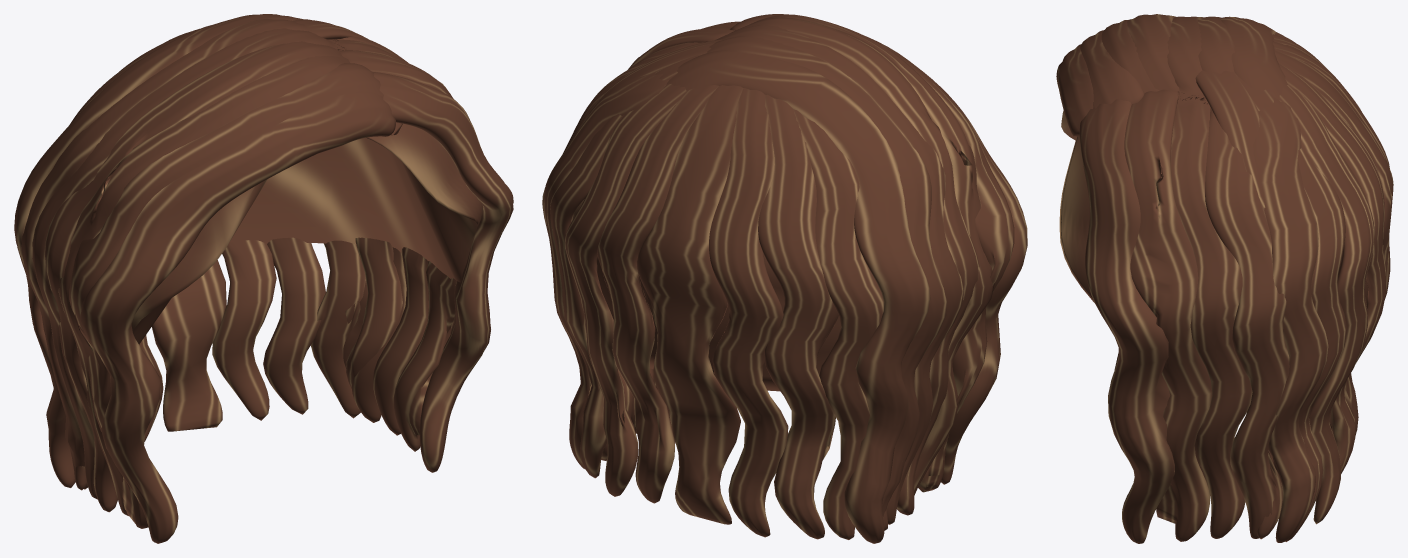
Rendered from Highlights-6e13555985ca252-hair.glb.
The picture shows the model from 3 angles, left to right: view 1: azimuth 30°, elevation 25°; view 2: azimuth 150°, elevation 25°; view 3: azimuth 270°, elevation 25°; orthographic projection. The views are drawn at different scales.
Parts seen in each view (by area): view 1: 226 hair / Hair / sculpted 0.002, 226 hair / Hair / sculpted 1.004, 226 hair / Hair / sculpted 2.002, 226 hair / Hair / sculpted 1.003; view 2: 226 hair / Hair / sculpted 0.002, 226 hair / Hair / sculpted 2.002, 226 hair / Hair / sculpted 1.004, 226 hair / Hair / sculpted 1.003; view 3: 226 hair / Hair / sculpted 1.004, 226 hair / Hair / sculpted 2.002, 226 hair / Hair / sculpted 0.002, 226 hair / Hair / sculpted 1.003.
Boxes of the visible parts, <box> form: 226 hair / Hair / sculpted 0.002: <box>14,14,428,543</box>; 226 hair / Hair / sculpted 1.004: <box>32,20,513,528</box>; 226 hair / Hair / sculpted 2.002: <box>21,18,485,515</box>; 226 hair / Hair / sculpted 1.003: <box>131,123,483,344</box>; 226 hair / Hair / sculpted 0.002: <box>565,17,1027,543</box>; 226 hair / Hair / sculpted 2.002: <box>544,14,994,539</box>; 226 hair / Hair / sculpted 1.004: <box>542,14,1014,539</box>; 226 hair / Hair / sculpted 1.003: <box>572,199,840,391</box>; 226 hair / Hair / sculpted 1.004: <box>1079,16,1386,543</box>; 226 hair / Hair / sculpted 2.002: <box>1101,16,1393,542</box>; 226 hair / Hair / sculpted 0.002: <box>1056,14,1389,538</box>; 226 hair / Hair / sculpted 1.003: <box>1059,111,1368,304</box>.
Size of the model in its own units: 1.11 by 1.11 by 0.768.
4 materials, 4 textured.
